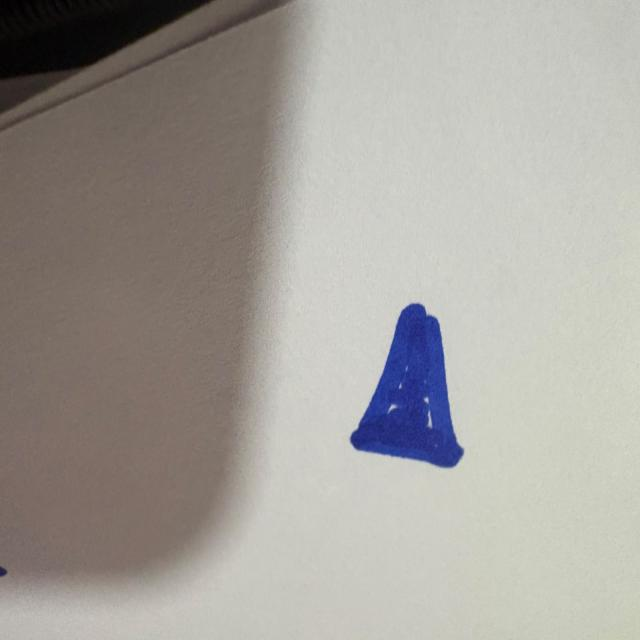Triangle: (350, 303, 463, 467)
